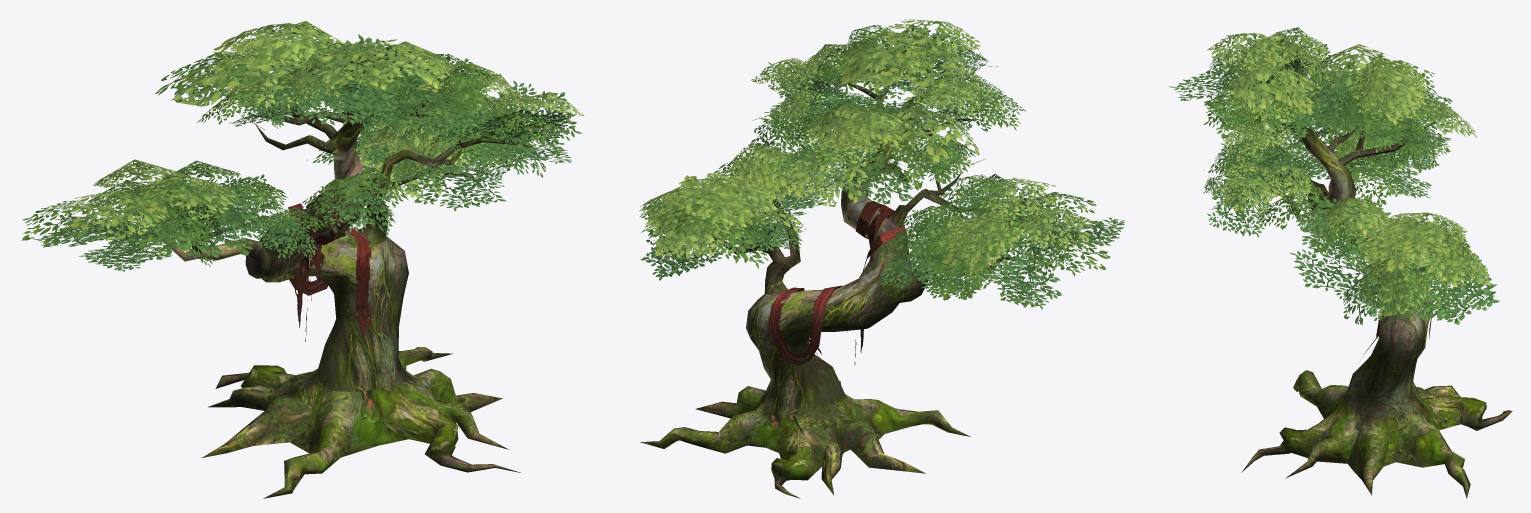
Rendered from SC_ZGFzhiwu02.FBX.
3 views of the same model, side by side, from view 1: azimuth 30°, elevation 25°; view 2: azimuth 150°, elevation 25°; view 3: azimuth 270°, elevation 25° (orthographic). The views are drawn at different scales.
Parts seen in each view (by area): view 1: SC_ZGFzhiwu02; view 2: SC_ZGFzhiwu02; view 3: SC_ZGFzhiwu02.
Part boxes in pixels (bbox=[...]): SC_ZGFzhiwu02: bbox=[22, 21, 584, 498]; SC_ZGFzhiwu02: bbox=[639, 19, 1124, 498]; SC_ZGFzhiwu02: bbox=[1169, 27, 1512, 498].
Bounding box in the file's own units: 1314 × 1077 × 879.
